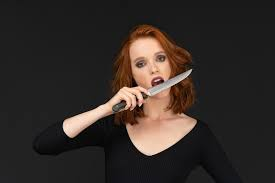knife: (108, 65, 197, 114)
